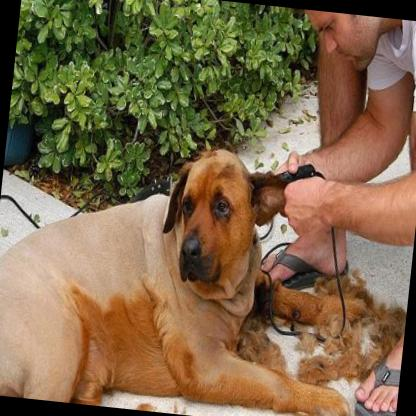bull_mastiff: (0, 125, 378, 416)
